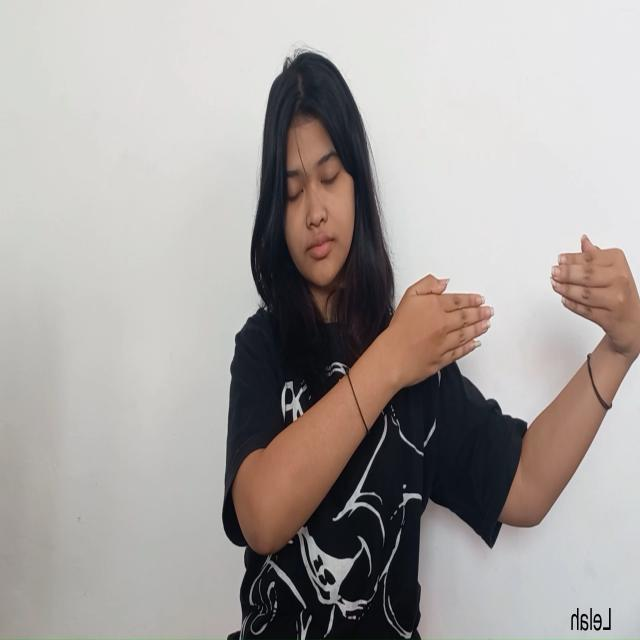Lelah -BISINDO-: (384, 228, 640, 403)
